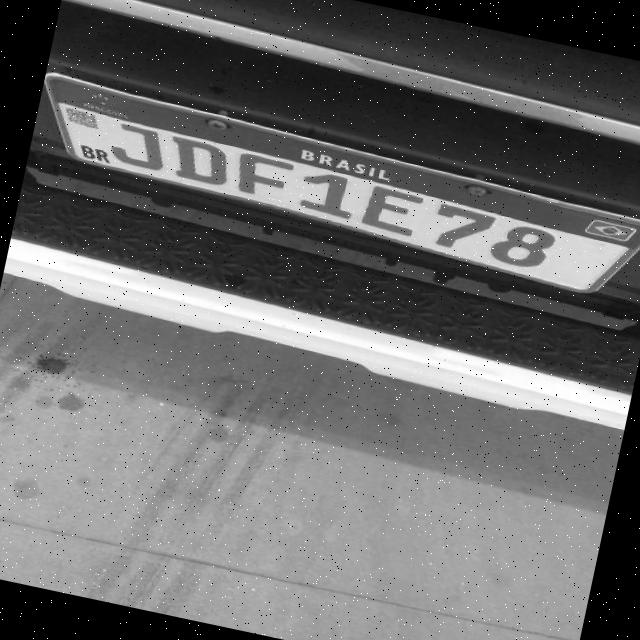placa_mercosul: (43, 74, 640, 292)
